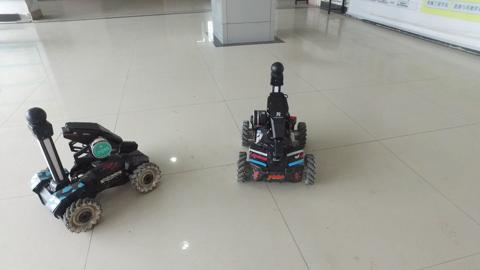chariot: (21, 104, 167, 233), (233, 59, 316, 189)
